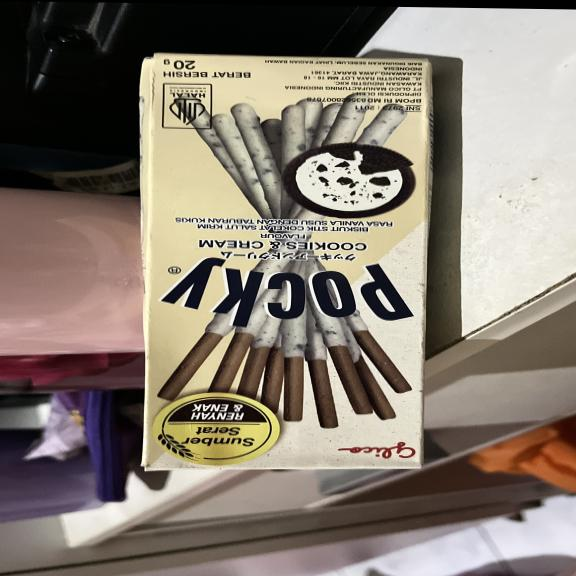Kertas: (142, 54, 428, 469)
